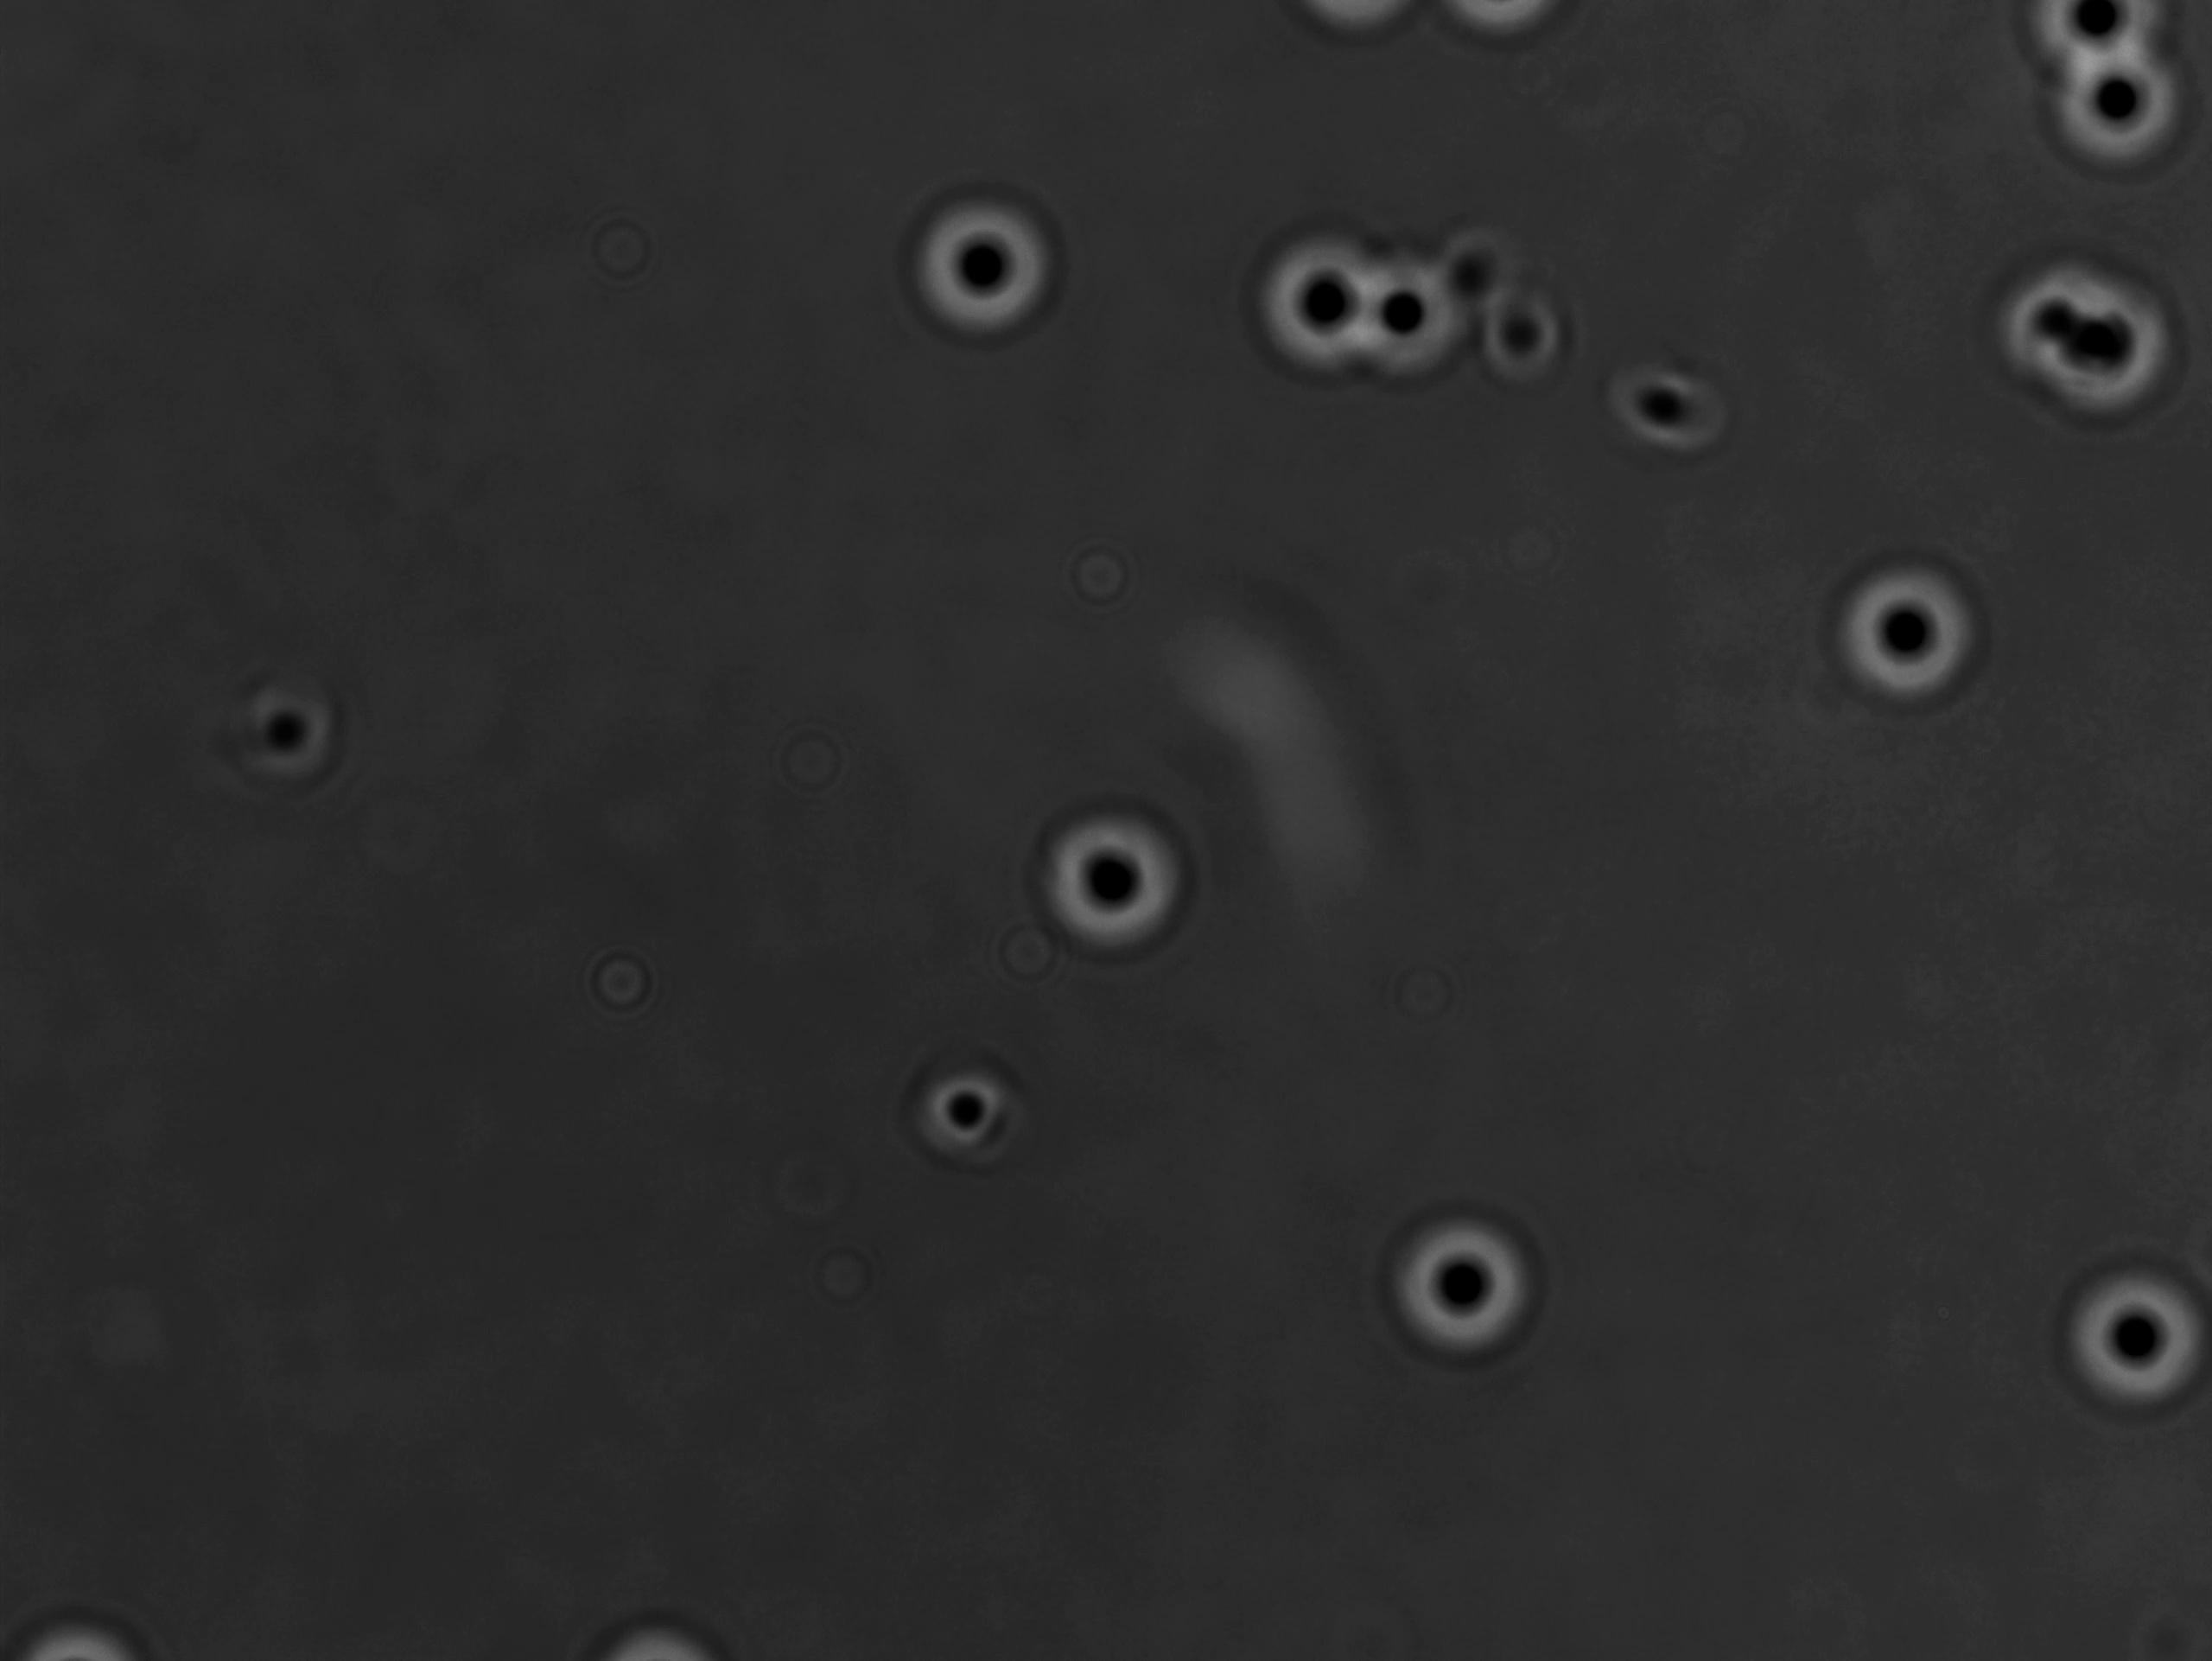depth:-40: (1014, 792, 1209, 982), (1371, 1190, 1553, 1375), (886, 185, 1073, 354), (1814, 558, 2001, 721), (1235, 218, 1403, 394), (2050, 1244, 2212, 1425), (2038, 31, 2205, 192), (1359, 260, 1490, 403)
